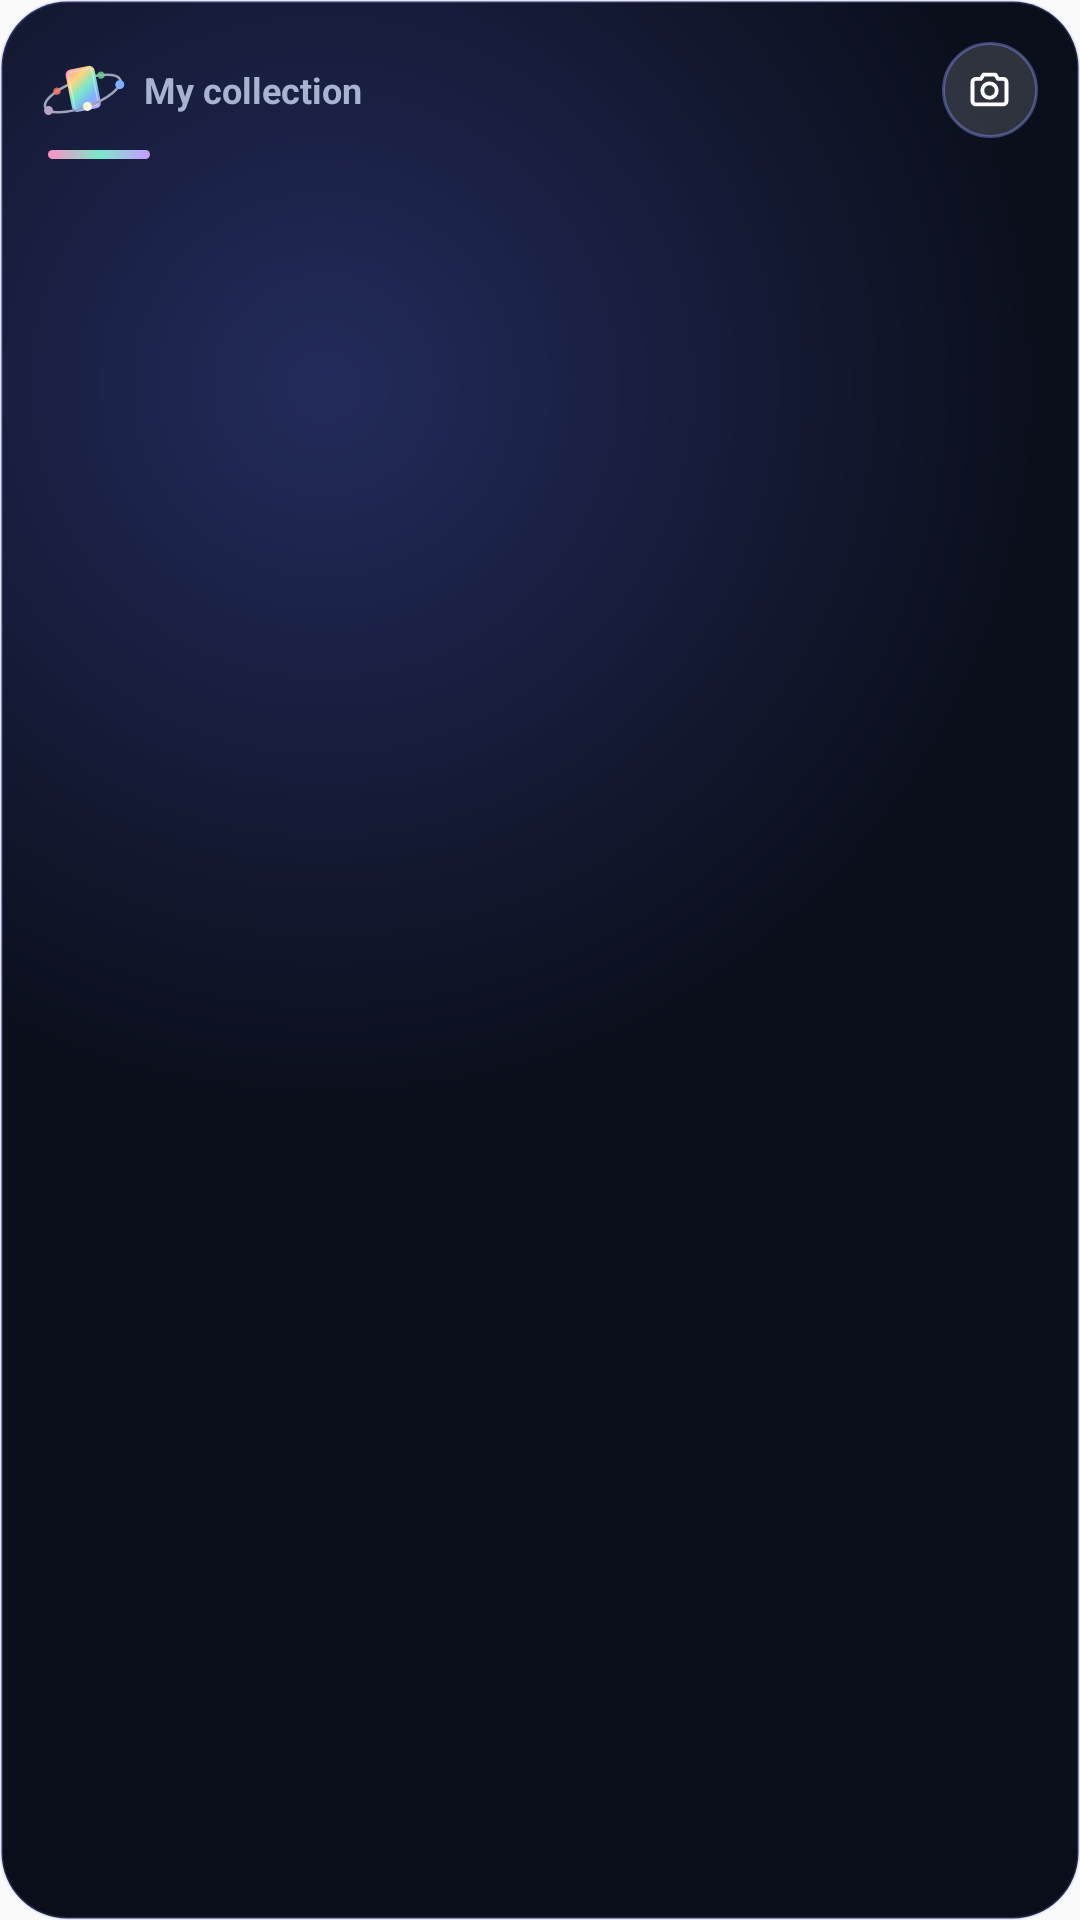

Named icons in this screenshot (1080 × 1920) and their centers, [x,y]:
widget scan: [989,89]
